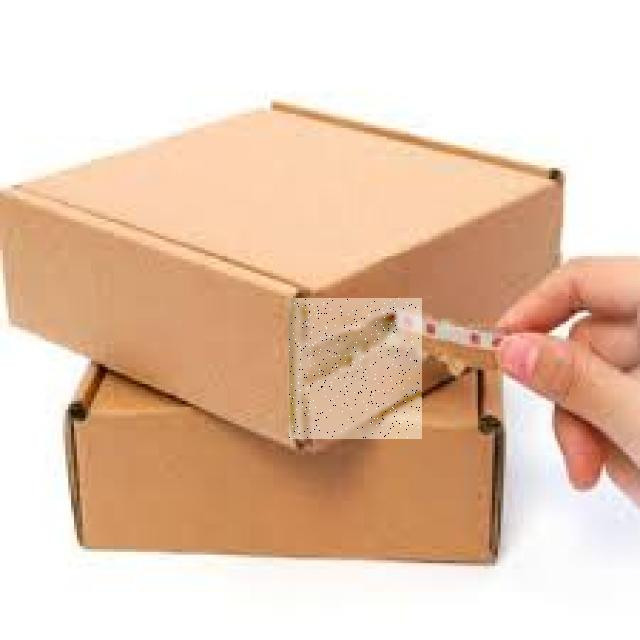tear: (289, 299, 420, 438)
